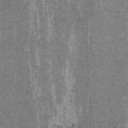finishing roll printing: (64, 29, 76, 124), (29, 64, 41, 100)
